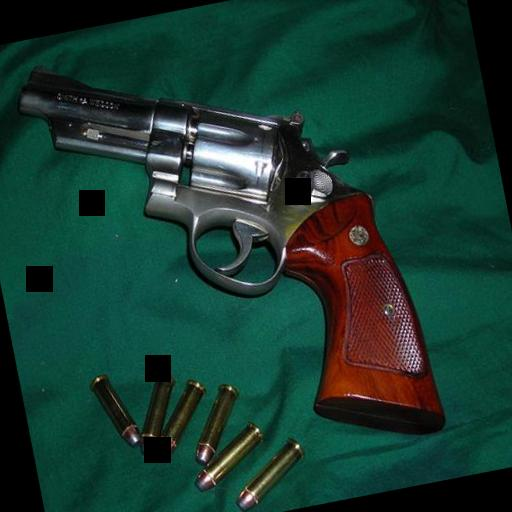Handgun: (10, 4, 446, 496)
